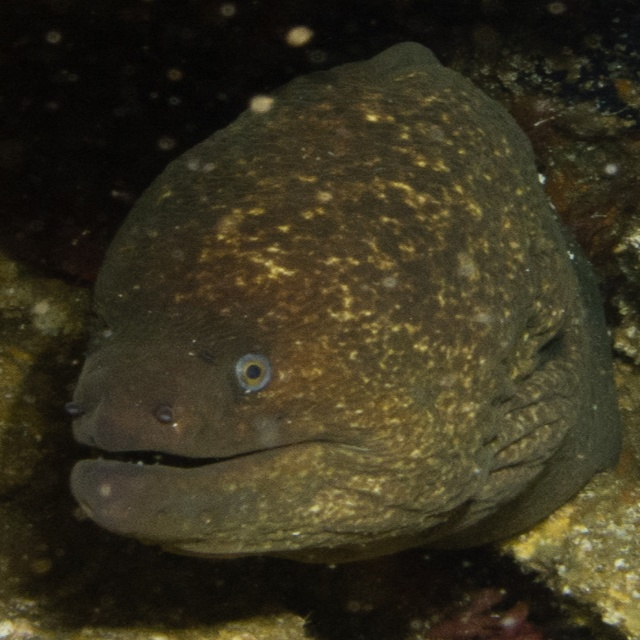Fish: (53, 45, 627, 583)
